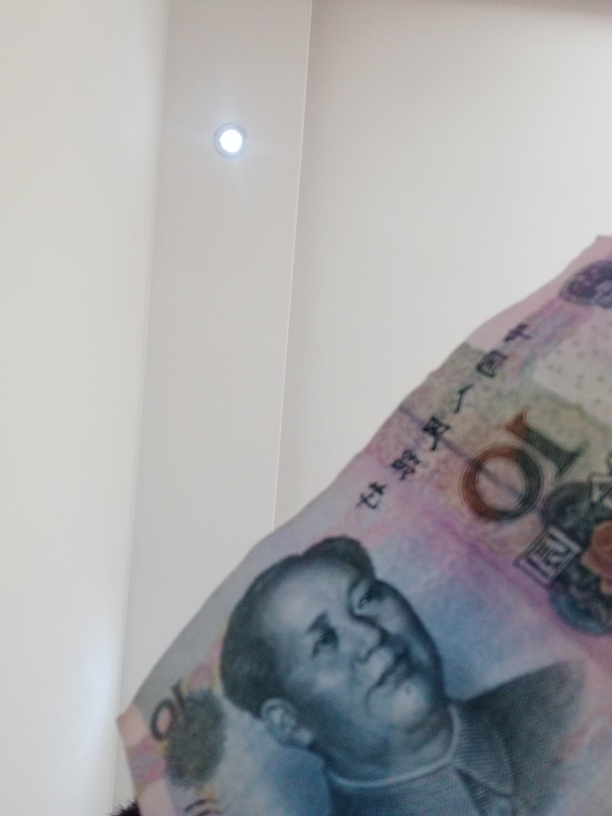rmb: (123, 236, 612, 814)
